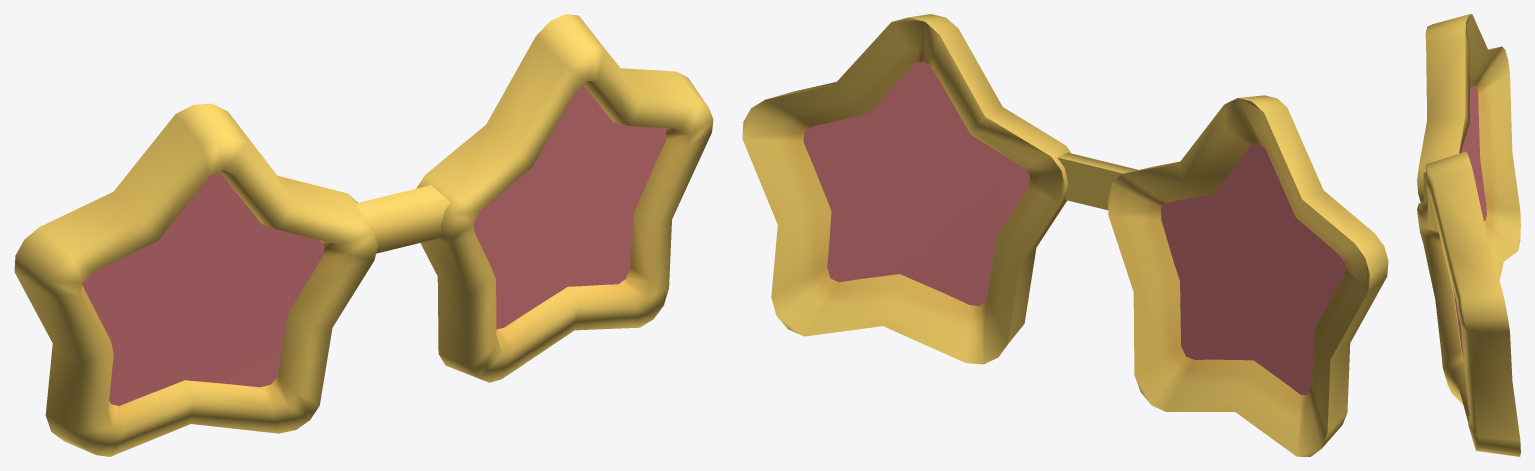
The model's file is SM_glass4.fbx.
The picture shows the model from 3 angles, left to right: view 1: azimuth 30°, elevation 25°; view 2: azimuth 150°, elevation 25°; view 3: azimuth 270°, elevation 25°; orthographic projection. The views are drawn at different scales.
Parts seen in each view (by area): view 1: glass; view 2: glass; view 3: glass.
Part boxes in pixels (x1=…): glass: x1=14, y1=14, x2=713, y2=456; glass: x1=742, y1=14, x2=1388, y2=456; glass: x1=1417, y1=14, x2=1520, y2=456.
Bounding box in the file's own units: 36.23 × 17.55 × 6.15.
